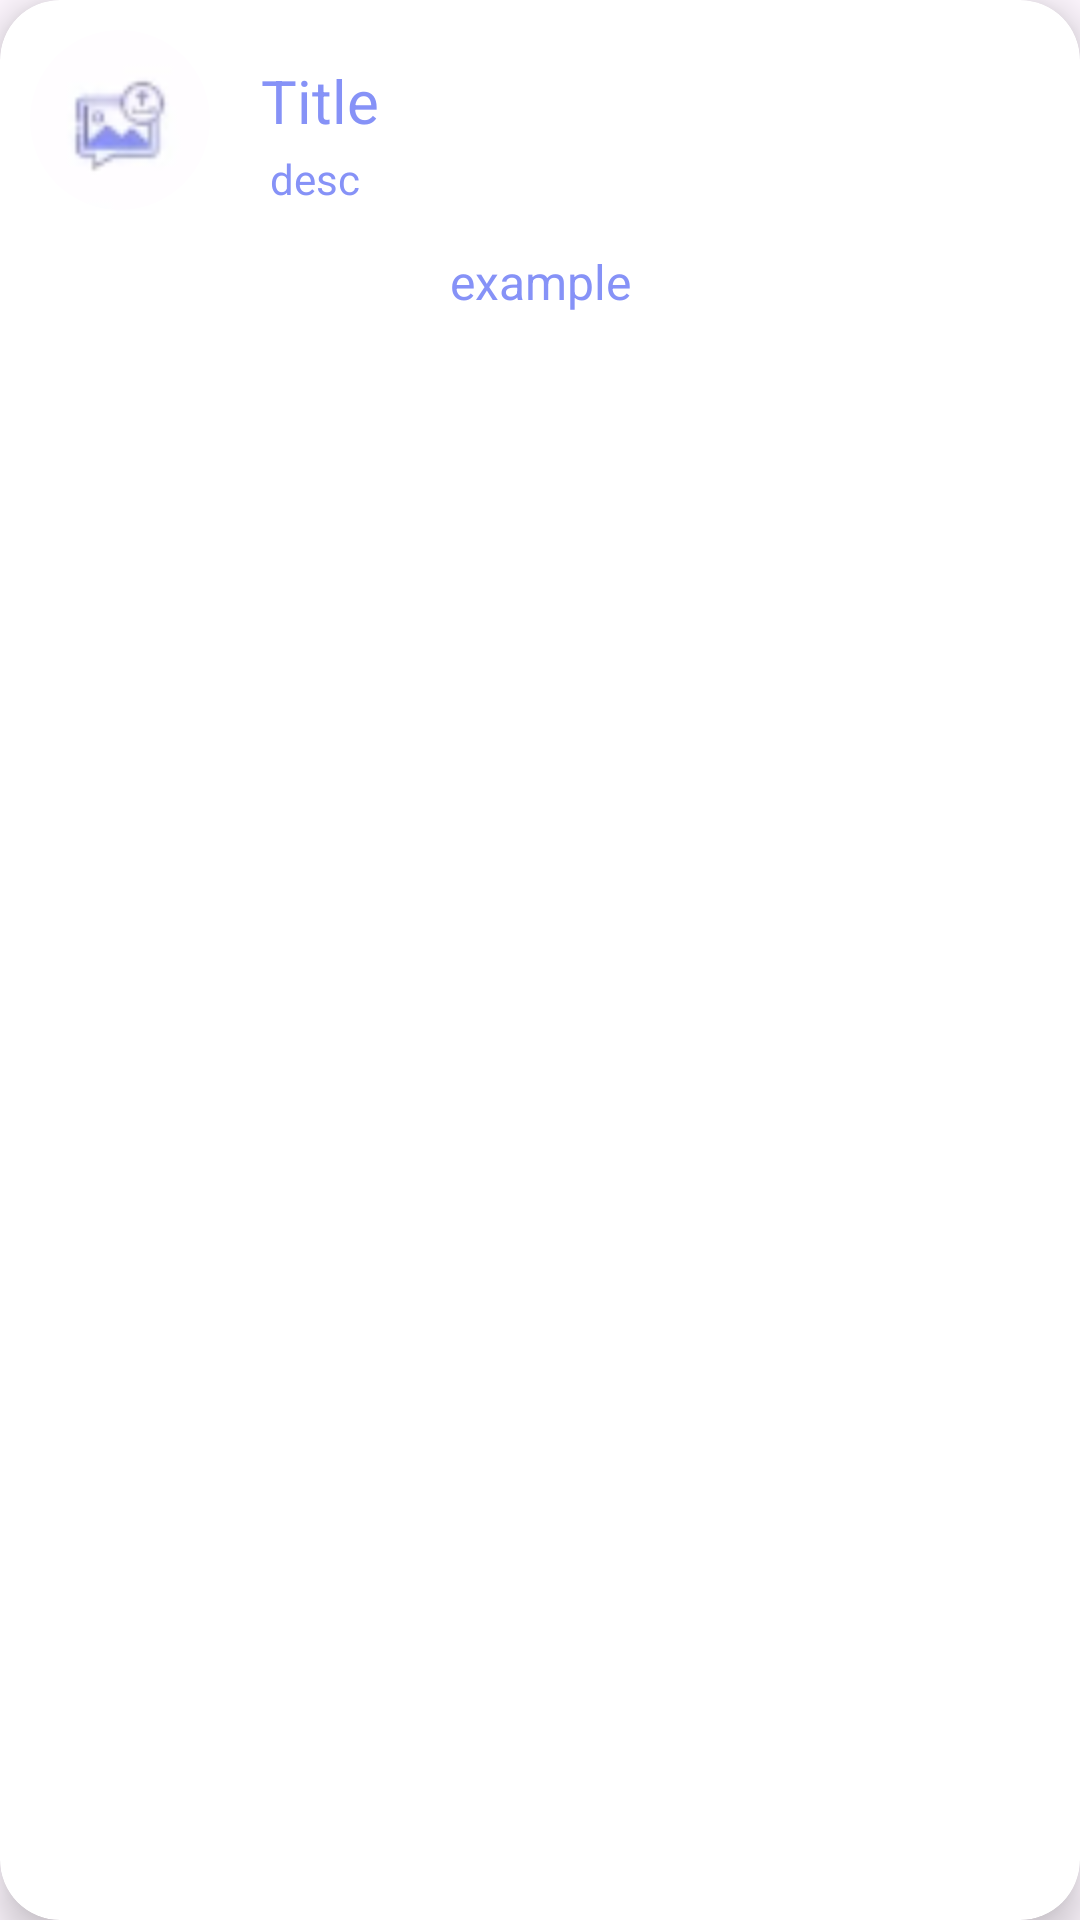

Screen size 1080×1920. Icon name, then its box in pixels as bbox(x1, y1, x2, y2):
uploadimg: bbox(75, 81, 165, 170)
